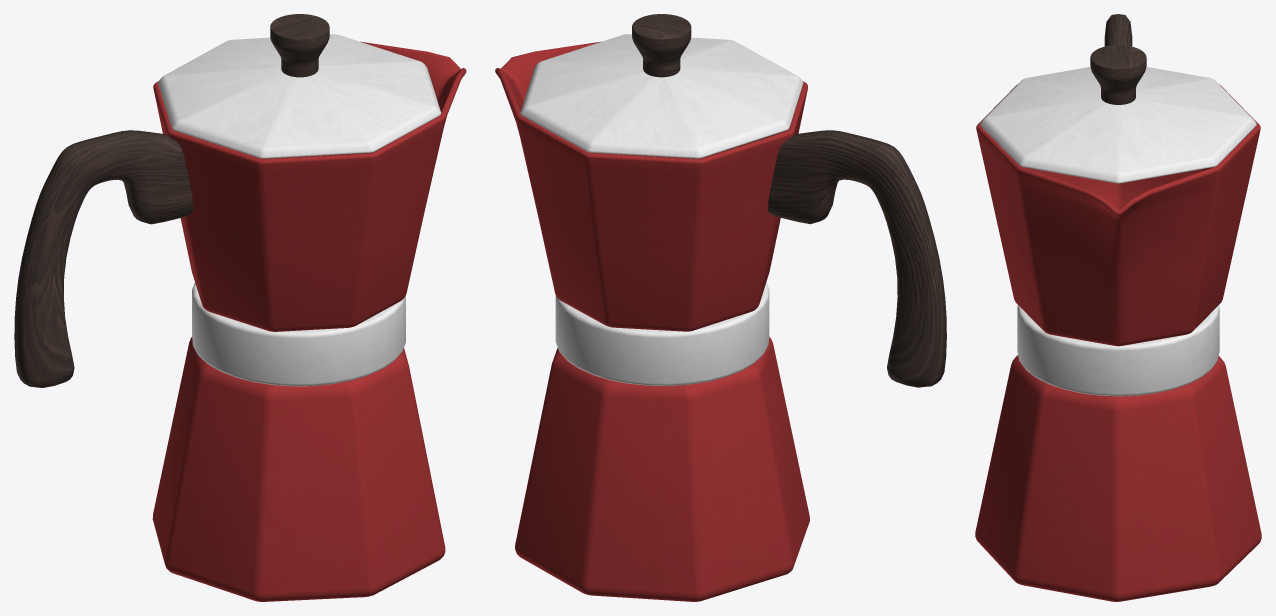
The model's file is ketil.glb.
3 views of the same model, side by side, from view 1: azimuth 30°, elevation 25°; view 2: azimuth 150°, elevation 25°; view 3: azimuth 270°, elevation 25° (orthographic). The views are drawn at different scales.
Parts seen in each view (by area): view 1: Knob; view 2: Knob; view 3: Knob.
Part boxes in pixels (x1,y1,x2,y2): Knob: [14, 14, 466, 601]; Knob: [495, 14, 946, 601]; Knob: [975, 14, 1261, 601].
Bounding box in the file's own units: 0.2143 × 0.2375 × 0.1262.
Materials: 3 (3 with a texture image).
